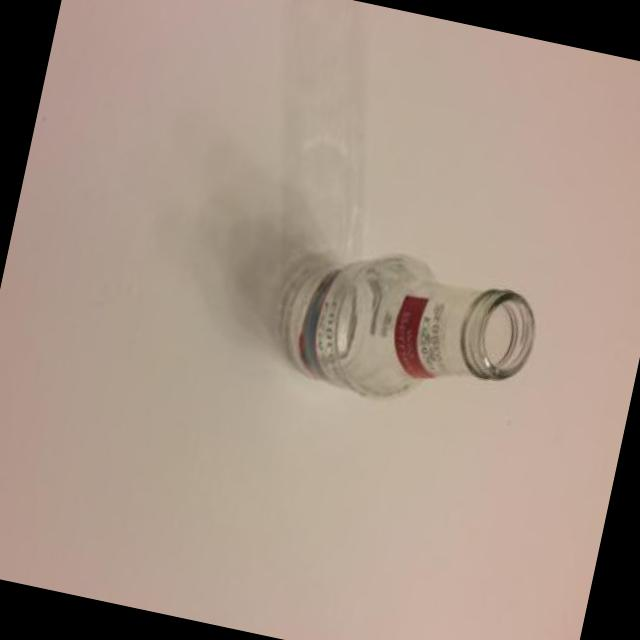chai_thuy_tinh: (278, 251, 536, 398)
